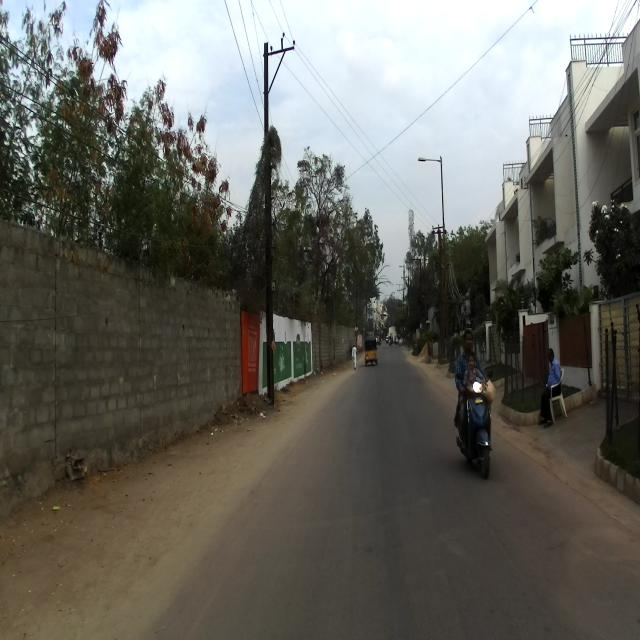electric pole ahead at: (255, 24, 304, 406)
motorcycle ahead at: (452, 370, 498, 476)
